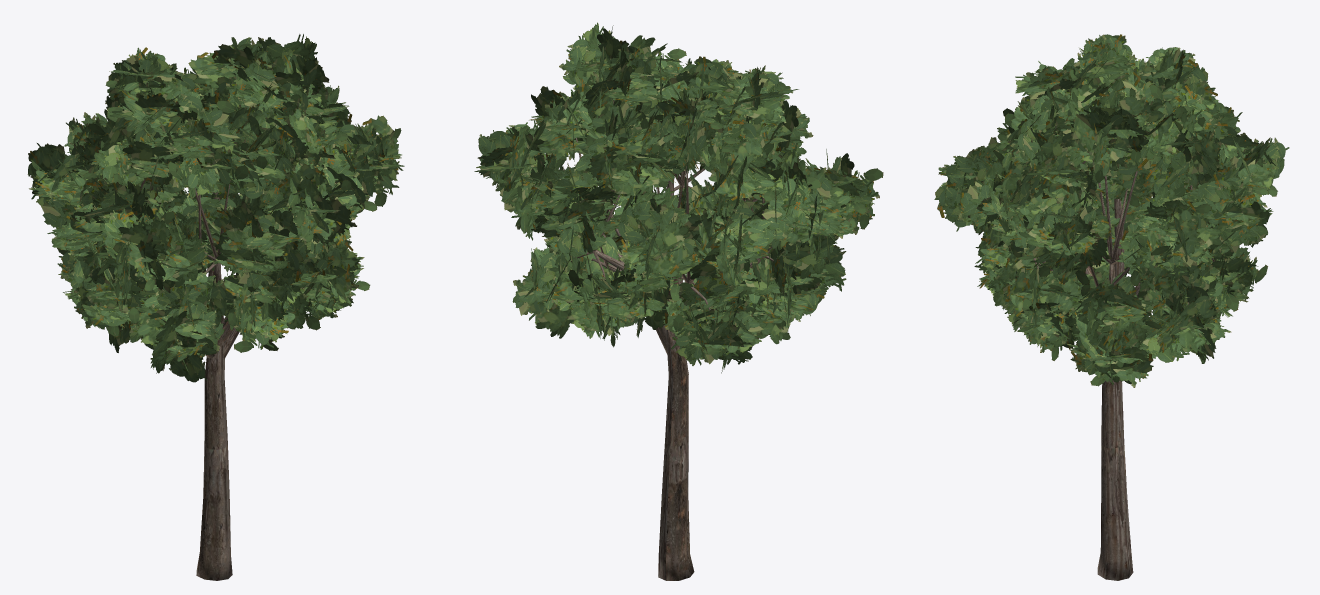
The model's file is nature-tree.glb.
The picture shows the model from 3 angles, left to right: view 1: azimuth 30°, elevation 25°; view 2: azimuth 150°, elevation 25°; view 3: azimuth 270°, elevation 25°; orthographic projection.
Visible parts, largest first — view 1: Spread leaf sector NW, Spread leaf sector top west, Narrow leaf sector NW, Spread leaf sector NE, Narrow leaf sector NE, Spread leaf sector top east, Narrow leaf sector top east, Narrow leaf sector top west, Narrow textured trunk, Spread leaf sector SW, Narrow leaf sector SW, Spread leaf sector SE (+2 smaller); view 2: Spread leaf sector SE, Spread leaf sector SW, Spread leaf sector NW, Spread leaf sector top west, Spread leaf sector top east, Narrow leaf sector SW, Narrow leaf sector NW, Narrow leaf sector top west, Narrow leaf sector SE, Narrow textured trunk, Narrow leaf sector top east, Spread leaf sector NE (+2 smaller); view 3: Spread leaf sector SE, Spread leaf sector top east, Spread leaf sector NE, Narrow leaf sector NE, Narrow leaf sector top west, Narrow textured trunk, Narrow leaf sector top east, Spread leaf sector NW, Spread leaf sector top west, Spread leaf sector SW, Narrow leaf sector SE, Narrow leaf sector NW (+1 smaller).
Part boxes in pixels (<box>): Spread leaf sector NW: <box>47,191,311,382</box>; Spread leaf sector top west: <box>81,47,248,198</box>; Narrow leaf sector NW: <box>73,176,312,357</box>; Spread leaf sector NE: <box>283,115,404,321</box>; Narrow leaf sector NE: <box>230,143,379,352</box>; Spread leaf sector top east: <box>184,34,348,188</box>; Narrow leaf sector top east: <box>188,37,325,127</box>; Narrow leaf sector top west: <box>107,63,276,205</box>; Narrow textured trunk: <box>196,192,232,580</box>; Spread leaf sector SW: <box>27,112,107,328</box>; Narrow leaf sector SW: <box>32,141,185,211</box>; Spread leaf sector SE: <box>163,85,352,214</box>; Spread leaf sector SE: <box>474,120,642,347</box>; Spread leaf sector SW: <box>614,199,775,373</box>; Spread leaf sector NW: <box>675,142,883,334</box>; Spread leaf sector top west: <box>651,65,813,209</box>; Spread leaf sector top east: <box>559,22,726,204</box>; Narrow leaf sector SW: <box>605,187,757,338</box>; Narrow leaf sector NW: <box>676,146,835,344</box>; Narrow leaf sector top west: <box>612,59,785,183</box>; Narrow leaf sector SE: <box>500,153,621,311</box>; Narrow textured trunk: <box>658,172,694,580</box>; Narrow leaf sector top east: <box>583,28,698,170</box>; Spread leaf sector NE: <box>529,86,694,253</box>; Spread leaf sector SE: <box>1133,163,1273,363</box>; Spread leaf sector top east: <box>997,89,1222,213</box>; Spread leaf sector NE: <box>958,169,1155,389</box>; Narrow leaf sector NE: <box>967,156,1161,360</box>; Narrow leaf sector top west: <box>1014,34,1224,167</box>; Narrow textured trunk: <box>1097,198,1133,580</box>; Narrow leaf sector top east: <box>1050,81,1191,202</box>; Spread leaf sector NW: <box>934,108,1142,288</box>; Spread leaf sector top west: <box>1004,47,1209,126</box>; Spread leaf sector SW: <box>1213,102,1289,197</box>; Narrow leaf sector SE: <box>1115,167,1248,323</box>; Narrow leaf sector NW: <box>958,149,1144,280</box>.
Bounding box in the file's own units: 4.04 × 5.73 × 3.74.
3 materials, 3 textured.
